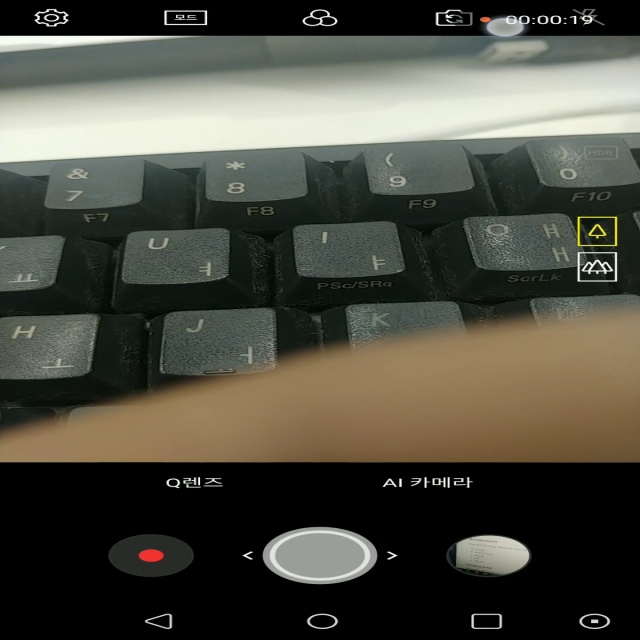Cursor: (482, 16, 527, 39)
